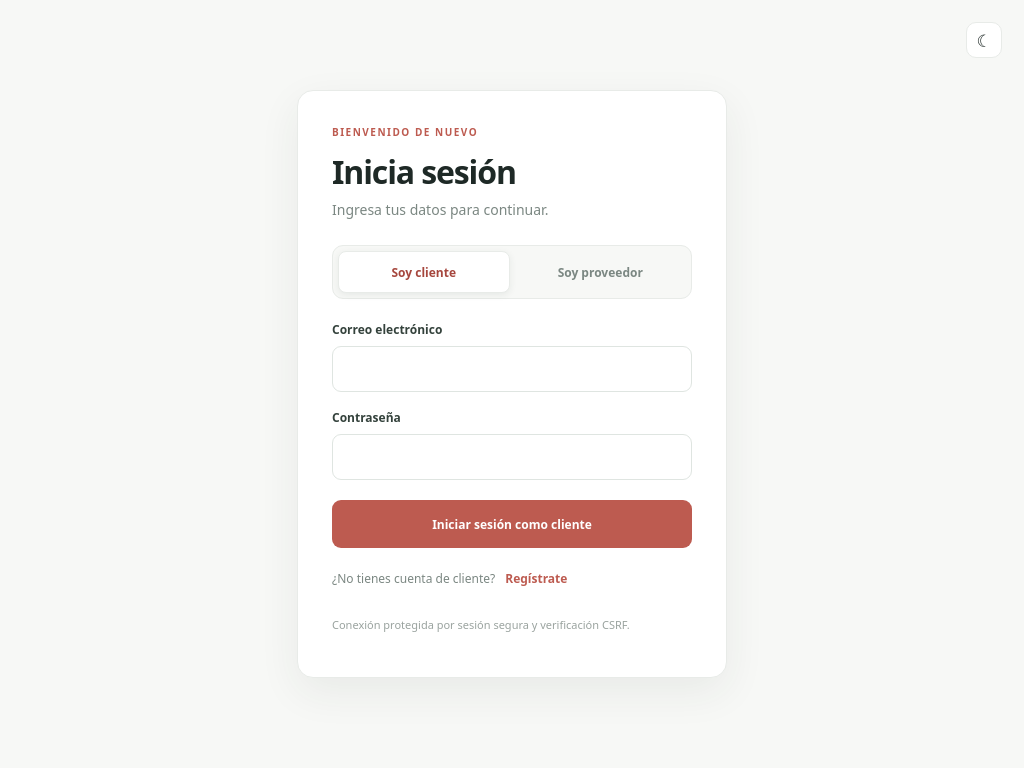
Test: AccessPage › defaults to client and opens the existing client registration form
The width and height of the screenshot is (1024, 768).
Click the button "Regístrate".
click(536, 578)  # box [505,570,567,587]
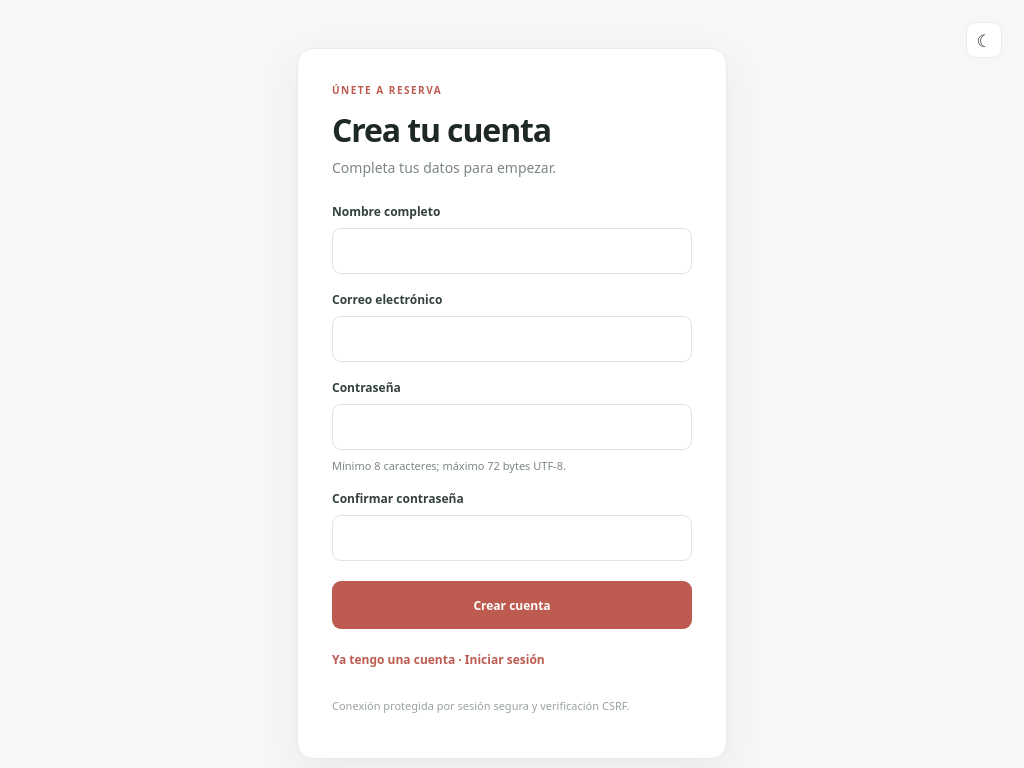
Result: the heading "Crea tu cuenta" is shown at [332,108,551,151]
